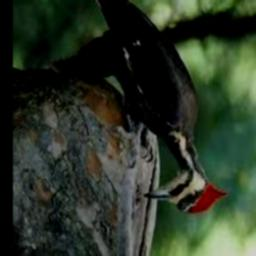Woodpecker: (77, 0, 228, 214)
